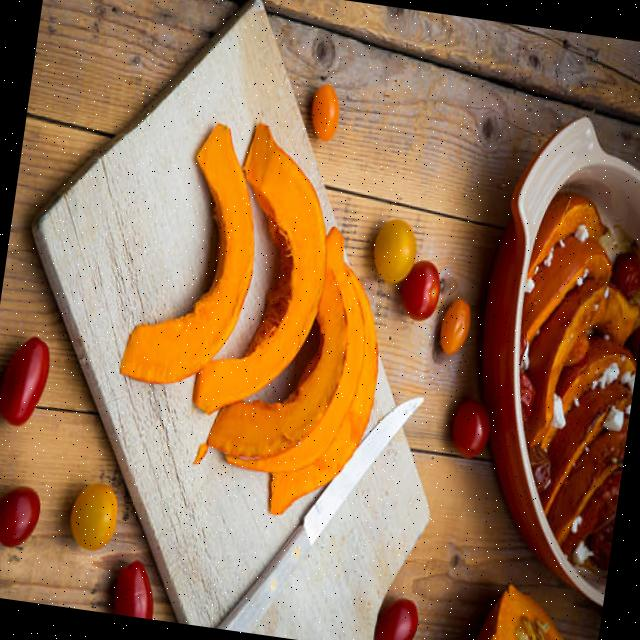pumpkin: (192, 123, 325, 415), (207, 228, 363, 474), (119, 126, 253, 383), (269, 270, 377, 515)
